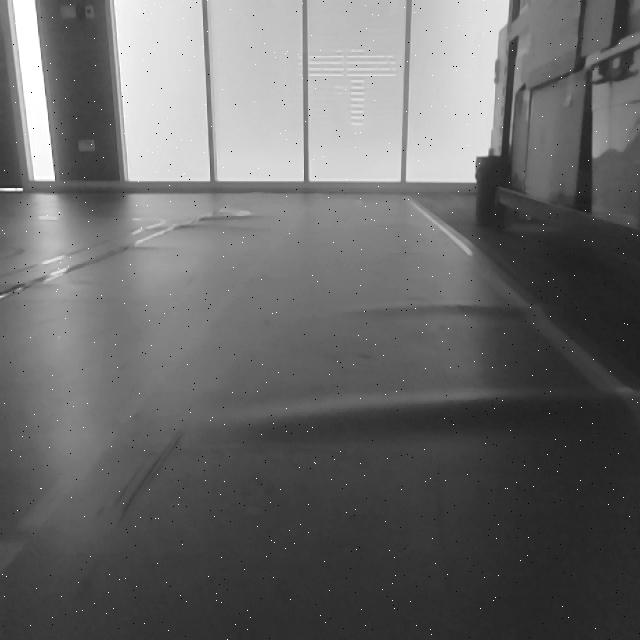left_lane: (0, 200, 311, 573)
right_lane: (406, 197, 640, 426)
